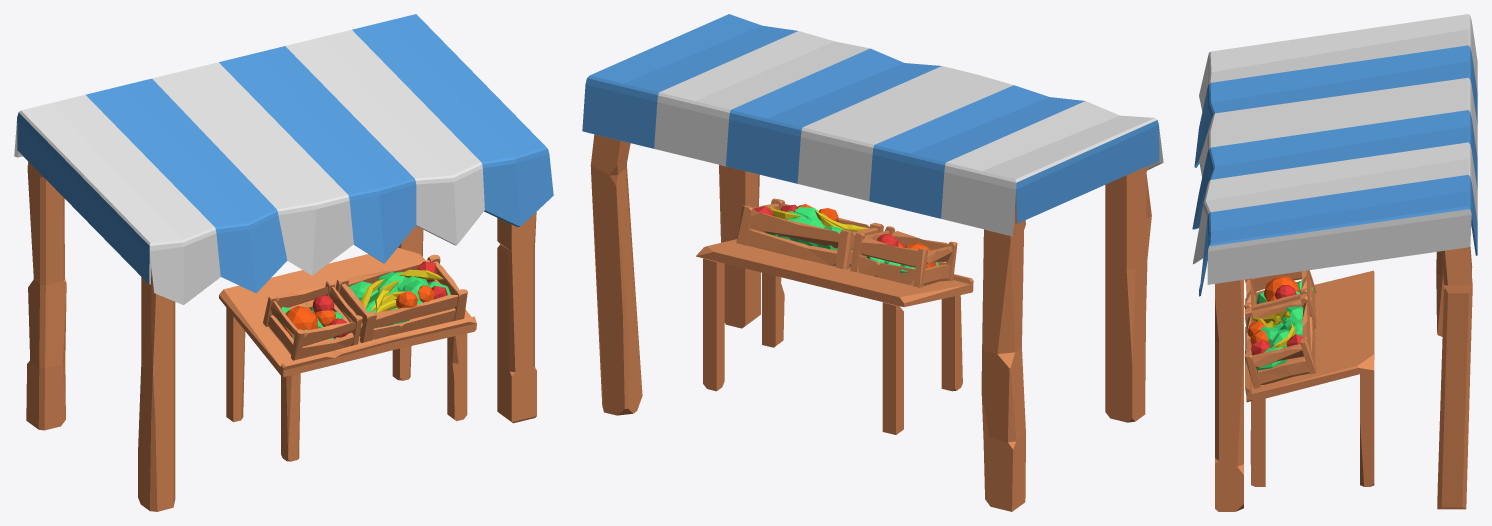
Rendered from Fruit.fbx.
3 views of the same model, side by side, from view 1: azimuth 30°, elevation 25°; view 2: azimuth 150°, elevation 25°; view 3: azimuth 270°, elevation 25° (orthographic). The views are drawn at different scales.
Visible parts, largest first — view 1: Tent_LOD0, Table_LOD0, Fruitbox_large_LOD0, Fruitbox_small_LOD0; view 2: Tent_LOD0, Table_LOD0, Fruitbox_large_LOD0, Fruitbox_small_LOD0; view 3: Tent_LOD0, Table_LOD0, Fruitbox_large_LOD0, Fruitbox_small_LOD0.
Part boxes in pixels (x1,y1,x2,y2): Tent_LOD0: (14, 14, 553, 511); Table_LOD0: (219, 248, 476, 461); Fruitbox_large_LOD0: (335, 254, 467, 343); Fruitbox_small_LOD0: (263, 280, 362, 360); Tent_LOD0: (582, 14, 1163, 511); Table_LOD0: (696, 239, 973, 434); Fruitbox_large_LOD0: (736, 198, 883, 269); Fruitbox_small_LOD0: (850, 226, 957, 287); Tent_LOD0: (1192, 14, 1477, 511); Table_LOD0: (1245, 270, 1374, 486); Fruitbox_large_LOD0: (1244, 293, 1316, 388); Fruitbox_small_LOD0: (1244, 270, 1316, 321).
Size of what is drawn, in the model's own units: 414 by 307 by 256.
